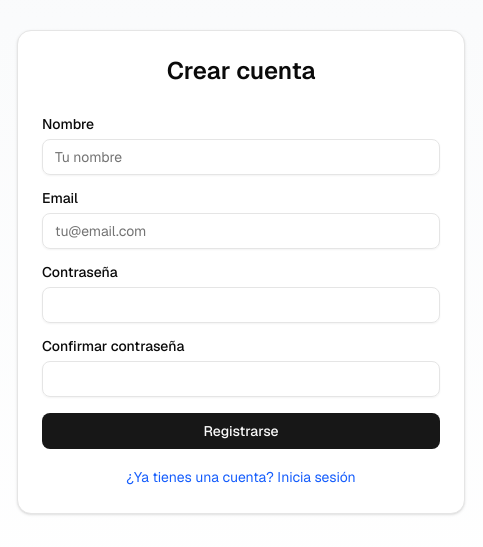
Test case: RegisterPage › proceso de registro › maneja errores generales del servidor
This screenshot has width=483, height=547.
Type "Usuario Test" into the field labelled "Nombre".
click(241, 157); type("Usuario Test")  # box [42,139,440,175]
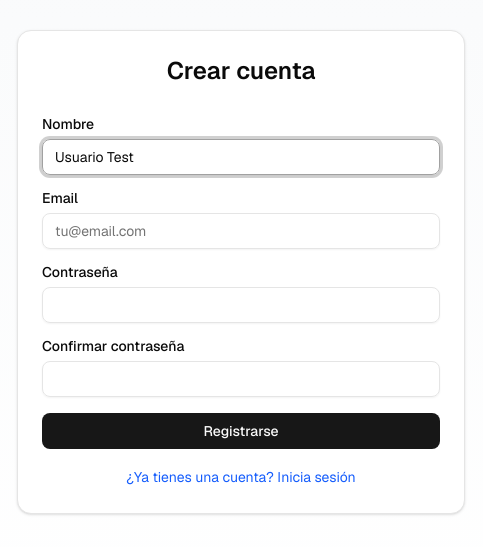
Type "test@example.com" into the field labelled "Email".
click(241, 231); type("test@example.com")  # box [42,213,440,249]
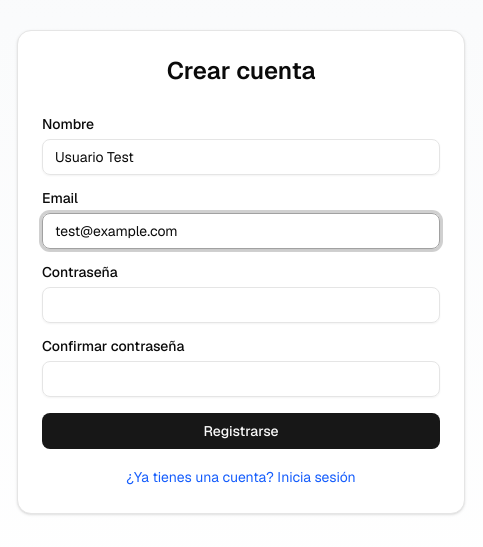
Type "password123" into the password field labelled "Contraseña".
click(241, 305); type("password123")  # box [42,287,440,323]
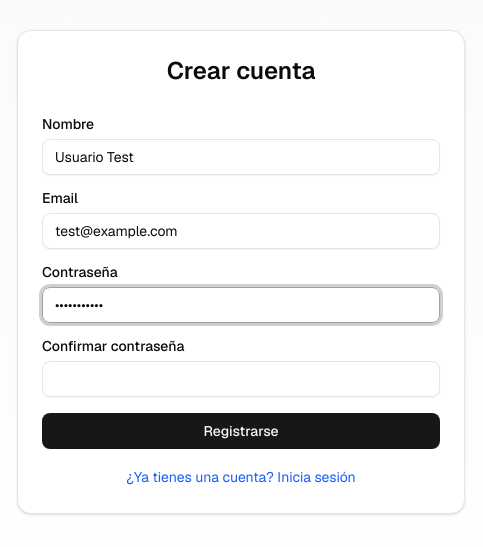
Type "password123" into the password field labelled "Confirmar contraseña".
click(241, 379); type("password123")  # box [42,361,440,397]
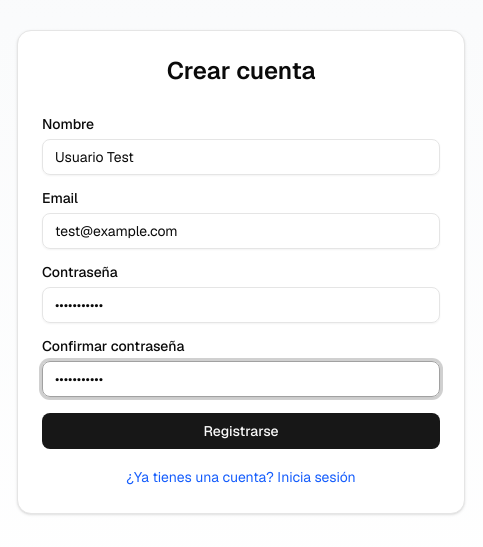
Click the button "Registrarse".
click(241, 431)  # box [42,413,440,449]
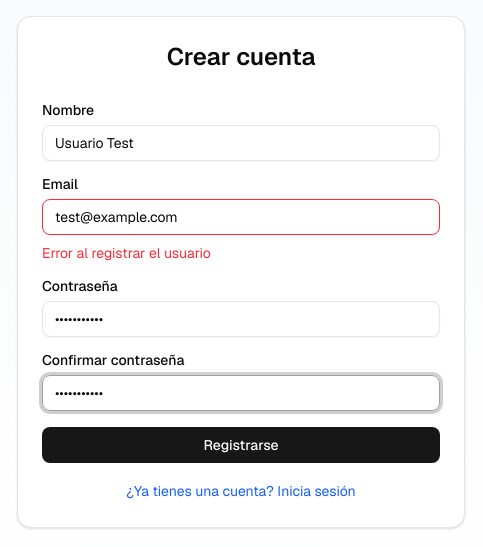
Check: the text "Error al registrar el usuario" is shown, box [42,244,211,262]
